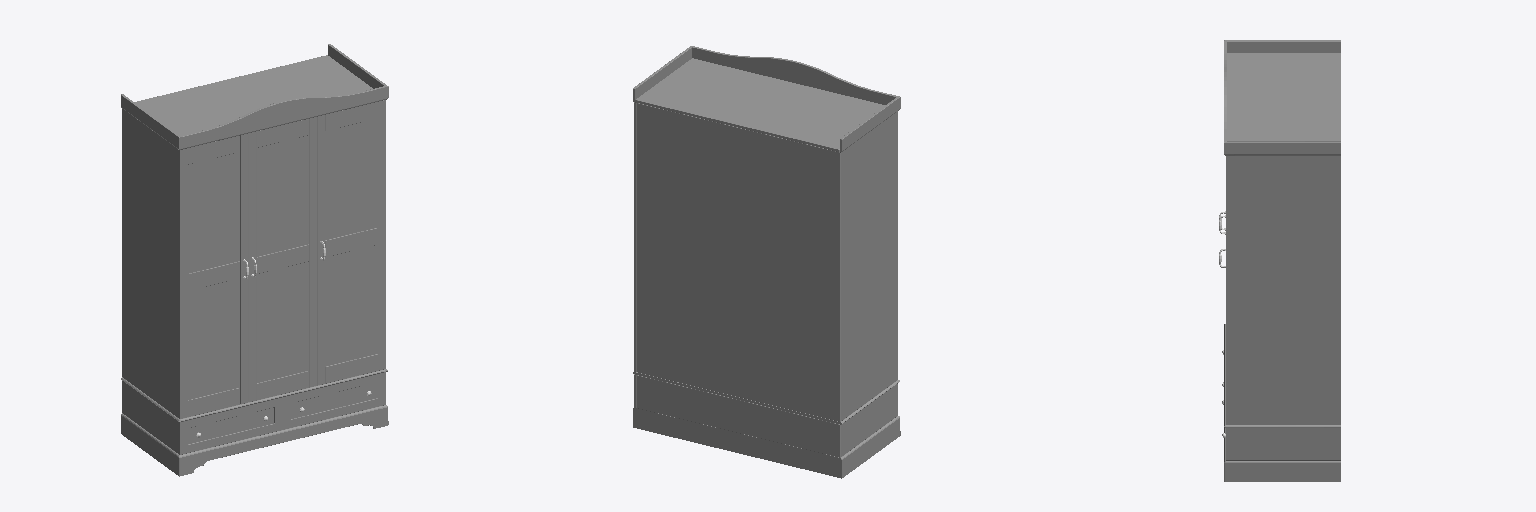
3 views of the same model, side by side, from view 1: azimuth 30°, elevation 25°; view 2: azimuth 150°, elevation 25°; view 3: azimuth 270°, elevation 25° (orthographic).
Size of the model in its own units: 1.3 by 2.07 by 0.6596.
Materials: 5 (1 with a texture image).